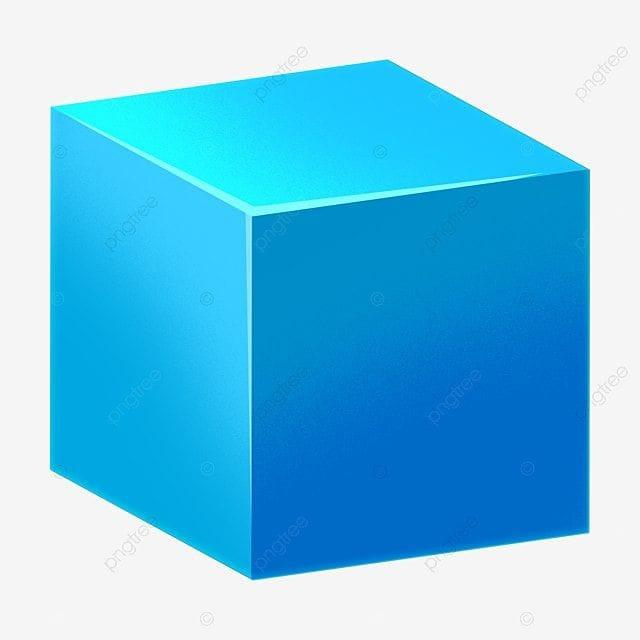cubos: (37, 42, 615, 592)
